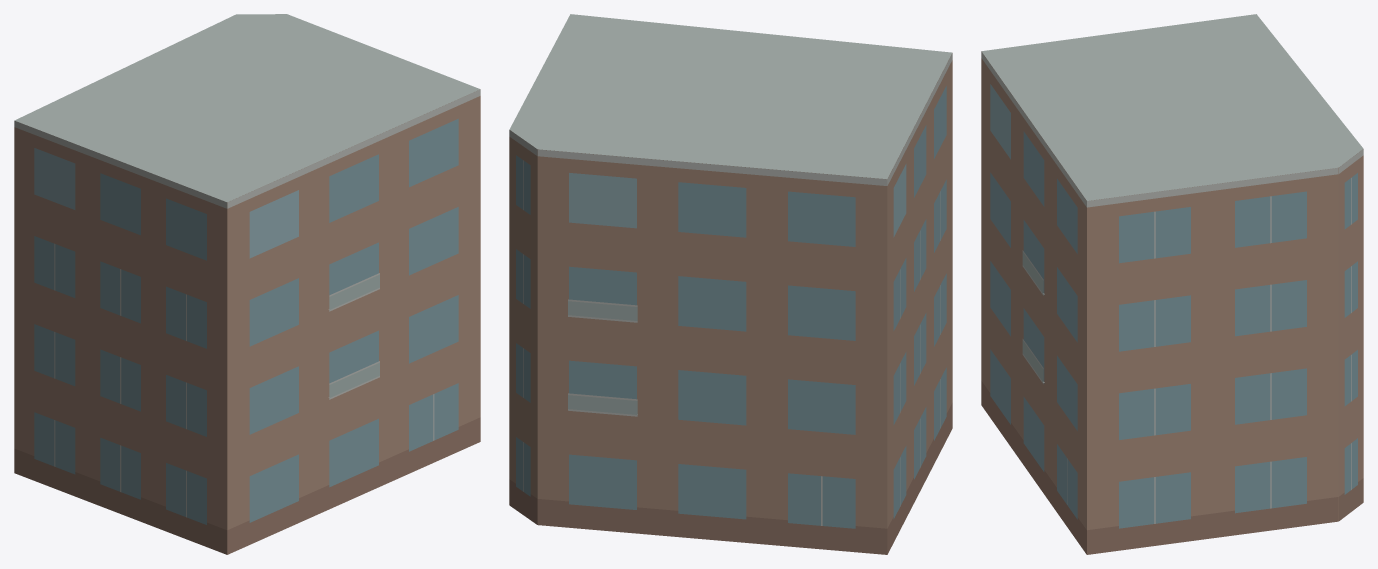
Rendered from survey-upis-32736378.glb.
3 views of the same model, side by side, from view 1: azimuth 30°, elevation 25°; view 2: azimuth 150°, elevation 25°; view 3: azimuth 270°, elevation 25° (orthographic). The views are drawn at different scales.
Visible parts, largest first — view 1: survey-upis-32736378.tmp; view 2: survey-upis-32736378.tmp; view 3: survey-upis-32736378.tmp.
Boxes of the visible parts, bbox=[...] form: survey-upis-32736378.tmp: bbox=[14, 14, 480, 554]; survey-upis-32736378.tmp: bbox=[509, 14, 952, 554]; survey-upis-32736378.tmp: bbox=[981, 14, 1363, 554].
Bounding box in the file's own units: 14.97 × 13.2 × 12.93.
